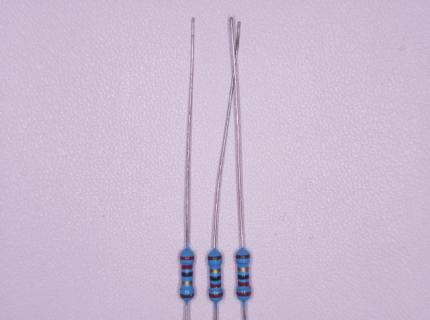Black band: (238, 274, 249, 280), (181, 272, 193, 277), (210, 276, 221, 281)
Brown band: (180, 293, 194, 298), (236, 254, 250, 259), (208, 256, 221, 261)
Gold band: (181, 281, 192, 286), (210, 268, 221, 273), (238, 267, 248, 272)
Red band: (236, 292, 251, 297), (209, 292, 223, 297), (180, 256, 194, 260), (181, 264, 192, 269), (210, 283, 221, 288), (238, 282, 249, 286)
